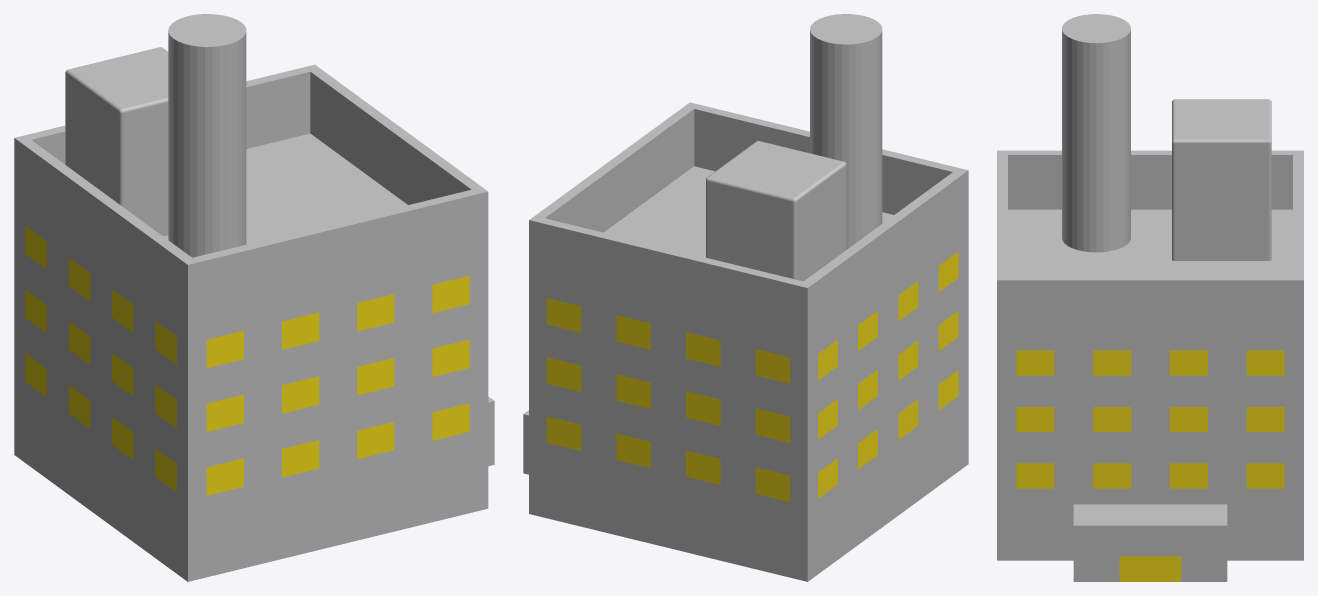
Rendered from buil2.fbx.
3 renders of one model, left to right at view 1: azimuth 30°, elevation 25°; view 2: azimuth 150°, elevation 25°; view 3: azimuth 270°, elevation 25°, orthographic. The views are drawn at different scales.
Parts seen in each view (by area): view 1: 平面.005; view 2: 平面.005; view 3: 平面.005.
Boxes of the visible parts, bbox=[...] form: 平面.005: bbox=[14, 14, 494, 581]; 平面.005: bbox=[523, 14, 968, 581]; 平面.005: bbox=[997, 14, 1303, 581].
Size of the model in its own units: 342 by 459 by 294.
